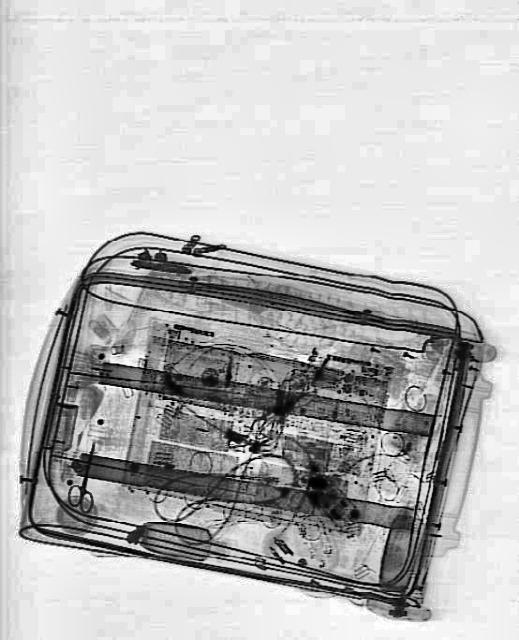Scissors: (64, 437, 106, 515)
